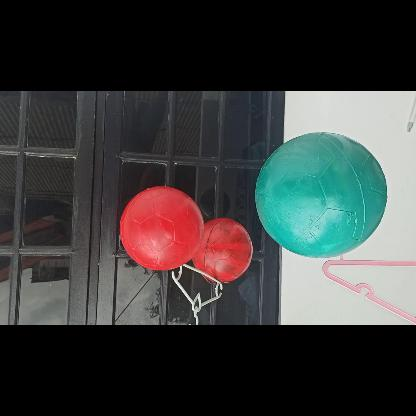red_ball: (119, 188, 203, 272)
